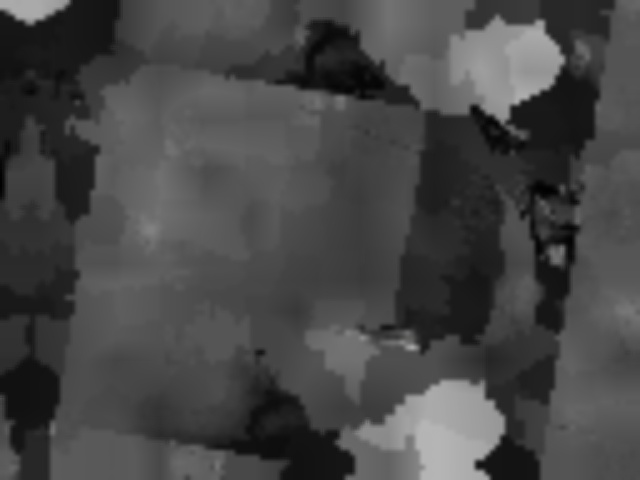eight: (433, 417, 476, 457)
